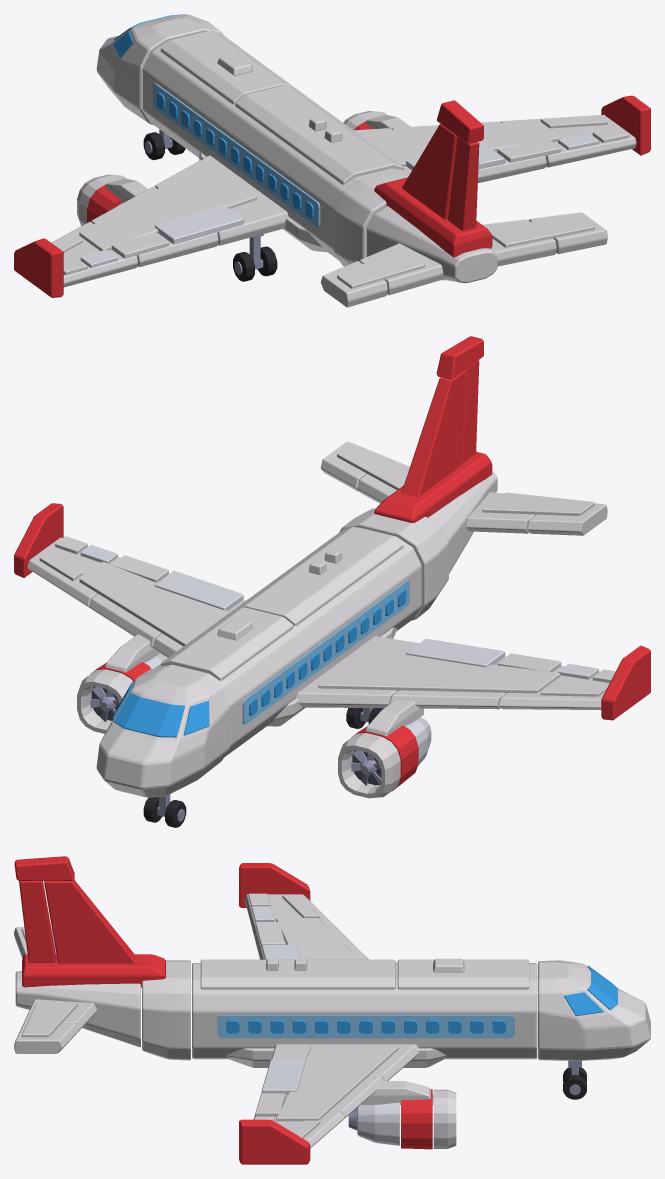
3 views of the same model, one above another, from view 1: azimuth 30°, elevation 25°; view 2: azimuth 150°, elevation 25°; view 3: azimuth 270°, elevation 25° (orthographic). The views are drawn at different scales.
Parts seen in each view (by area): view 1: M_Plane_WallWhite, M_Plane_Accent, M_Plane_Concrete, M_Plane_PlaneBand, M_Plane_PlaneWindow, M_Plane_Tire, M_Plane_Steel; view 2: M_Plane_WallWhite, M_Plane_Accent, M_Plane_Concrete, M_Plane_PlaneWindow, M_Plane_PlaneBand, M_Plane_Steel, M_Plane_Tire; view 3: M_Plane_WallWhite, M_Plane_Accent, M_Plane_PlaneBand, M_Plane_Concrete, M_Plane_PlaneWindow, M_Plane_Tire, M_Plane_Steel.
Boxes of the visible parts, box(x1,y1,x2,y2) form: M_Plane_WallWhite: box(51, 14, 636, 307); M_Plane_Accent: box(14, 95, 650, 297); M_Plane_Concrete: box(80, 133, 599, 267); M_Plane_PlaneBand: box(153, 83, 320, 227); M_Plane_PlaneWindow: box(113, 14, 313, 218); M_Plane_Tire: box(143, 132, 277, 281); M_Plane_Steel: box(145, 129, 264, 274); M_Plane_WallWhite: box(27, 441, 615, 798); M_Plane_Accent: box(14, 336, 650, 791); M_Plane_Concrete: box(80, 544, 599, 765); M_Plane_PlaneWindow: box(113, 589, 406, 737); M_Plane_PlaneBand: box(242, 580, 409, 724); M_Plane_Steel: box(90, 686, 381, 821); M_Plane_Tire: box(143, 708, 383, 827); M_Plane_WallWhite: box(14, 893, 650, 1148); M_Plane_Accent: box(14, 856, 432, 1164); M_Plane_PlaneBand: box(217, 1015, 514, 1038); M_Plane_Concrete: box(251, 906, 399, 1145); M_Plane_PlaneWindow: box(226, 965, 617, 1033); M_Plane_Tire: box(563, 1067, 586, 1099); M_Plane_Steel: box(348, 1060, 581, 1130).
Size of the model in its own units: 28.6 by 11.92 by 29.26.
